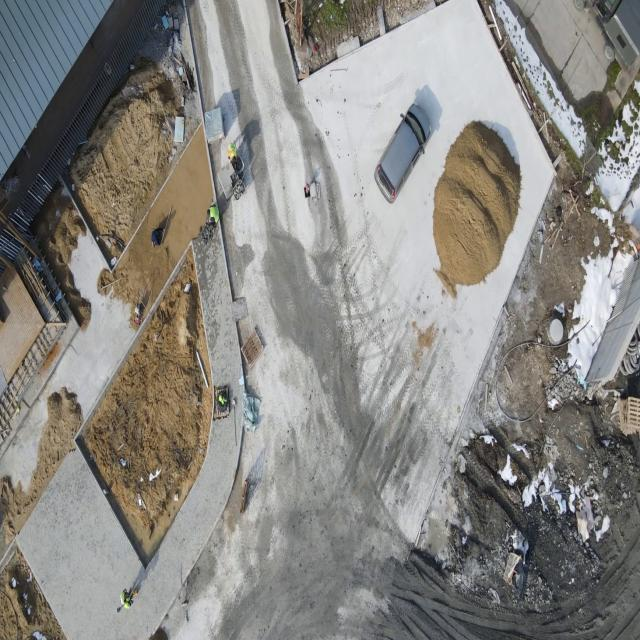p3rson: (119, 586, 134, 609), (151, 227, 165, 248), (206, 204, 218, 222), (226, 143, 237, 162)
